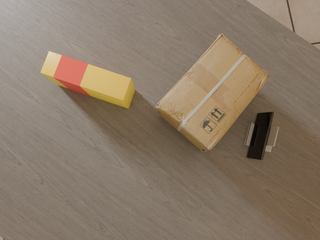box: (156, 34, 269, 152), (41, 51, 135, 108)
phone: (247, 112, 274, 160)
